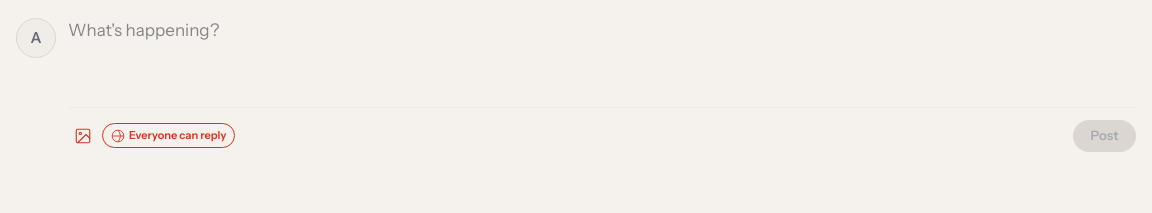
Test: PostComposer › shows autocomplete dropdown when user types @handle and suggestions exist
The image size is (1152, 213).
Type "@bo" into the text box with test id "composer-textarea" at (602, 58), box [68, 16, 1136, 100]
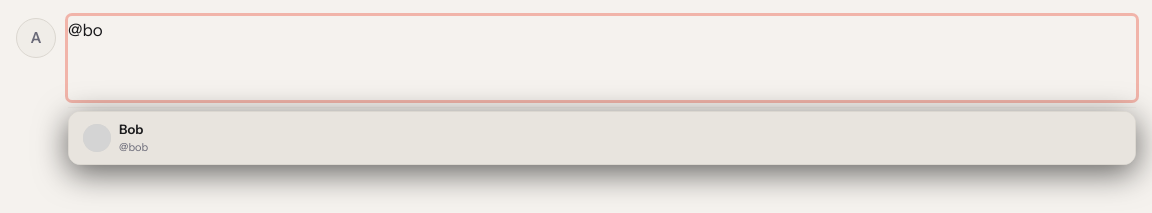
expect the list with test id "autocomplete-dropdown" is shown: met, box [68, 110, 1136, 164]
expect the text "Bob" is shown: met, box [119, 120, 143, 136]
